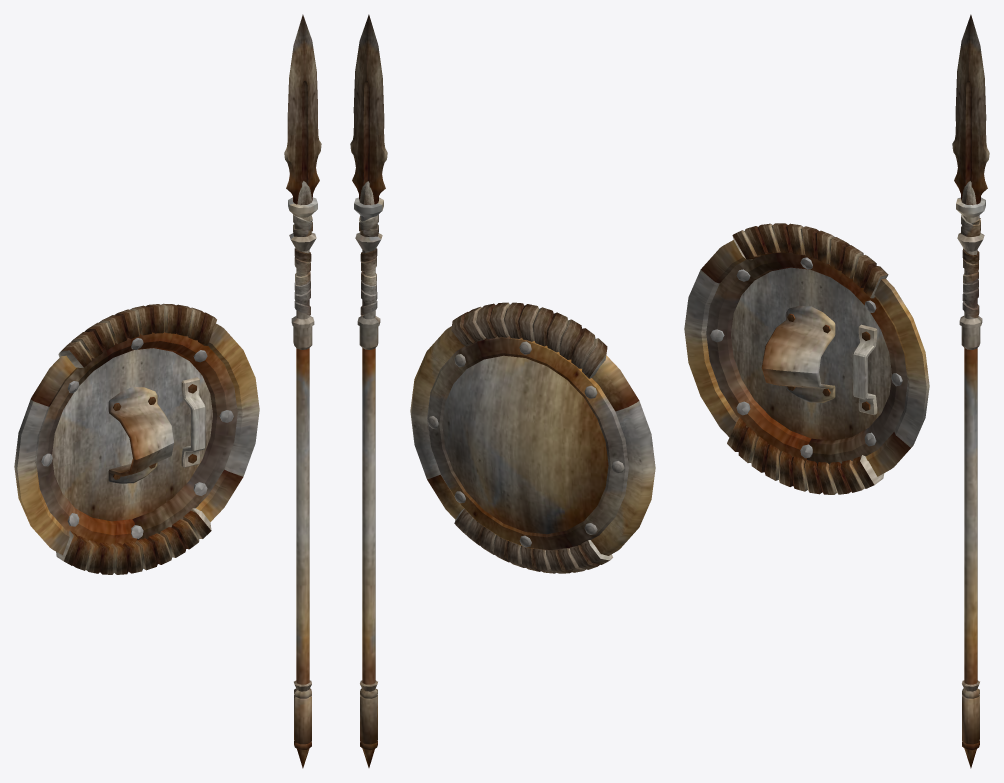
File: armas.obj
3 views of the same model, side by side, from view 1: azimuth 30°, elevation 25°; view 2: azimuth 150°, elevation 25°; view 3: azimuth 330°, elevation 25° (orthographic).
Visible parts, largest first — view 1: 3071, 4535, 2507, 1433; view 2: 4535, 3071, 2507, 1433; view 3: 3071, 4535, 2507, 1433.
Boxes of the visible parts, box(x1,y1,x2,y2) form: 3071: box(52, 303, 216, 574); 4535: box(14, 323, 259, 555); 2507: box(284, 14, 321, 768); 1433: box(293, 214, 312, 684); 4535: box(410, 326, 655, 555); 3071: box(451, 302, 612, 573); 2507: box(350, 14, 387, 767); 1433: box(359, 214, 378, 684); 3071: box(727, 223, 891, 494); 4535: box(684, 240, 929, 476); 2507: box(952, 14, 989, 768); 1433: box(961, 214, 980, 684).
Bounding box in the file's own units: 1.39 × 3.3 × 0.307.
